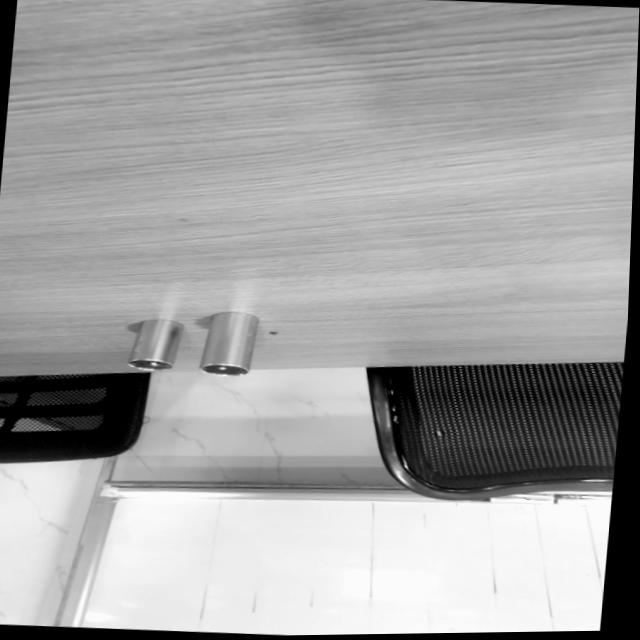Co_Lon: (198, 306, 260, 380)
Co_Nho: (127, 311, 184, 376)
